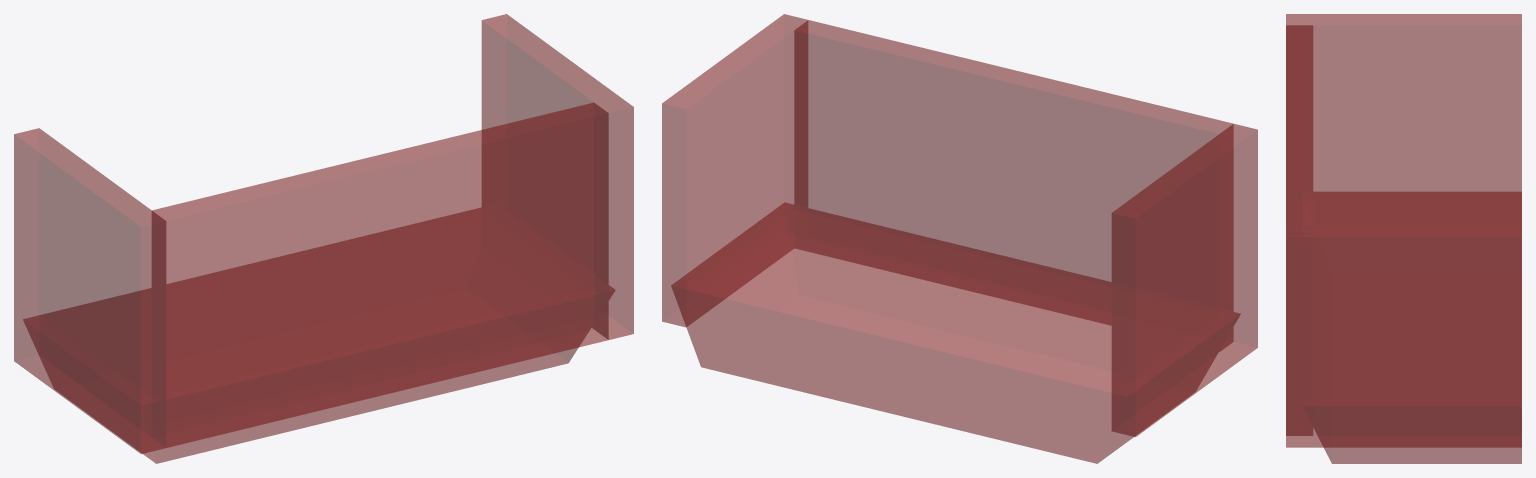
File: SM_Bld_Balcony_01_Collision.fbx
The picture shows the model from 3 angles, left to right: view 1: azimuth 30°, elevation 25°; view 2: azimuth 150°, elevation 25°; view 3: azimuth 270°, elevation 25°; orthographic projection. The views are drawn at different scales.
Visible parts, largest first — view 1: SM_Bld_Balcony_01_Collision; view 2: SM_Bld_Balcony_01_Collision; view 3: SM_Bld_Balcony_01_Collision.
Part boxes in pixels (box(x1,y1,x2,y2)): SM_Bld_Balcony_01_Collision: box(14, 14, 633, 463); SM_Bld_Balcony_01_Collision: box(662, 14, 1257, 463); SM_Bld_Balcony_01_Collision: box(1286, 14, 1521, 463).
Size of the model in its own units: 242 by 124 by 108.
